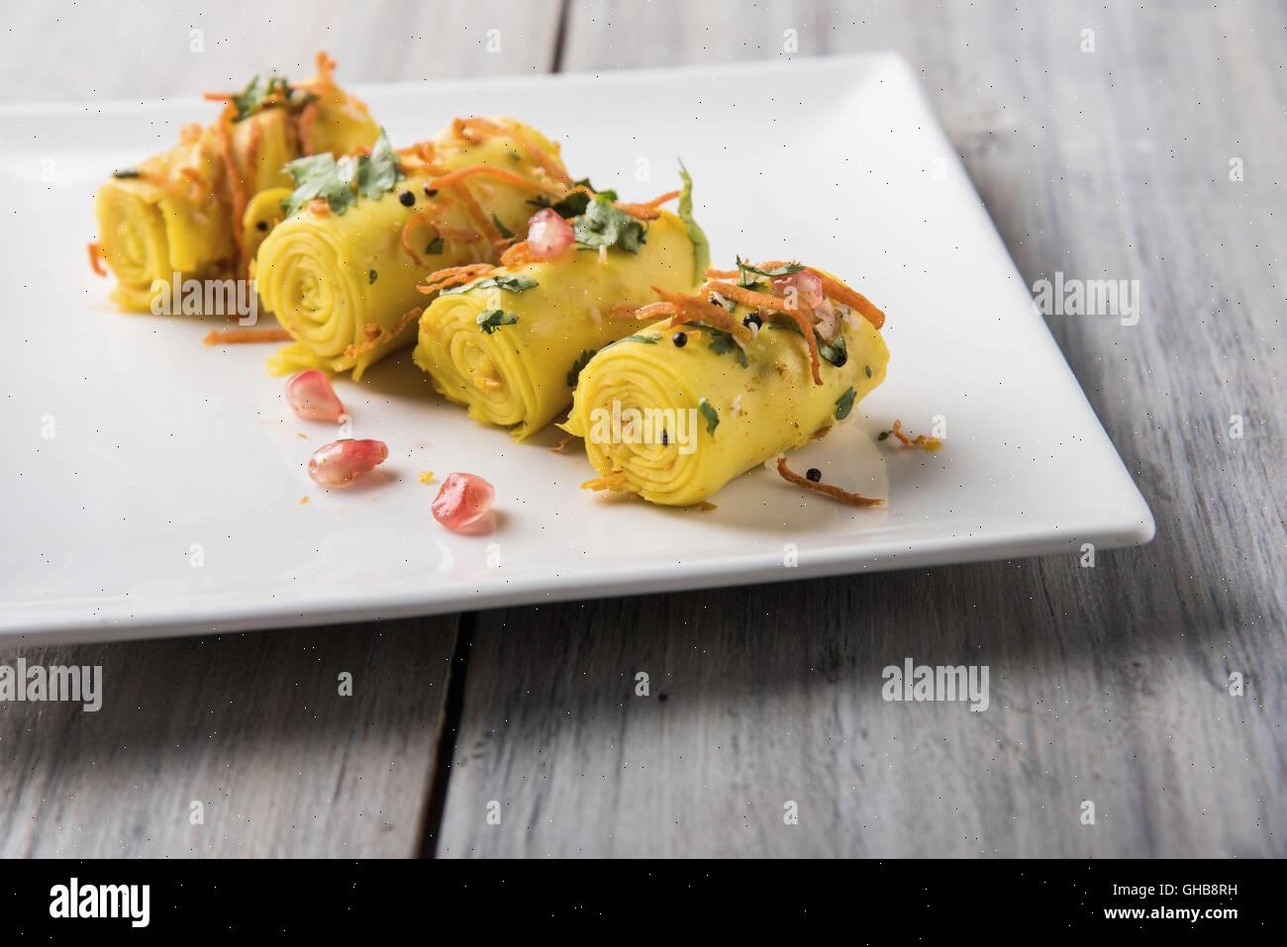khandvi: (106, 69, 953, 529)
